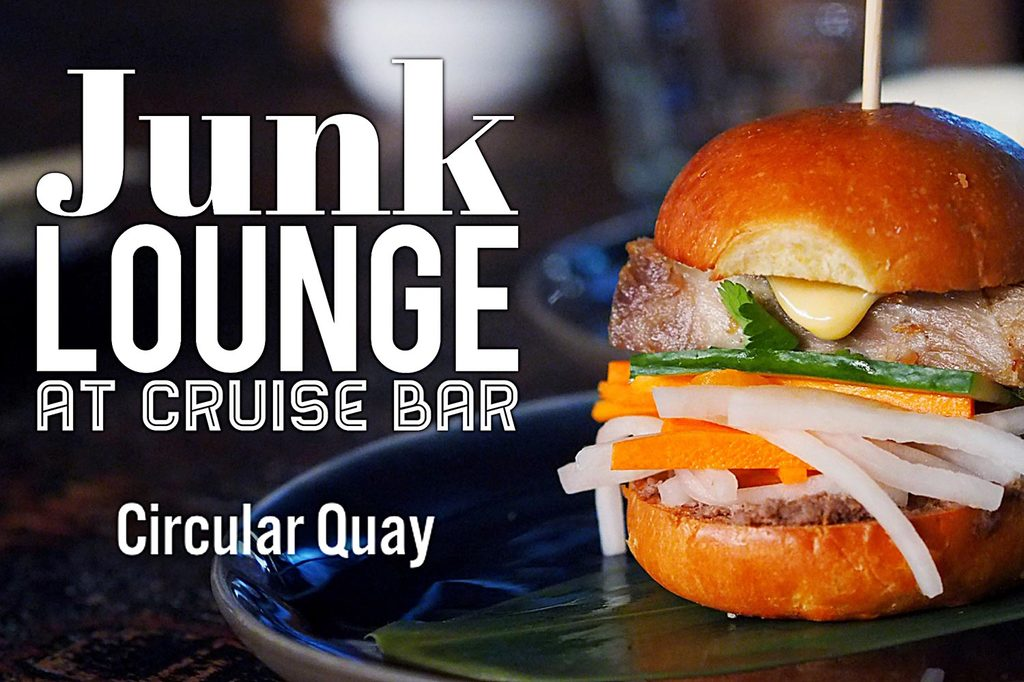Hamburger: (554, 103, 1023, 619)
